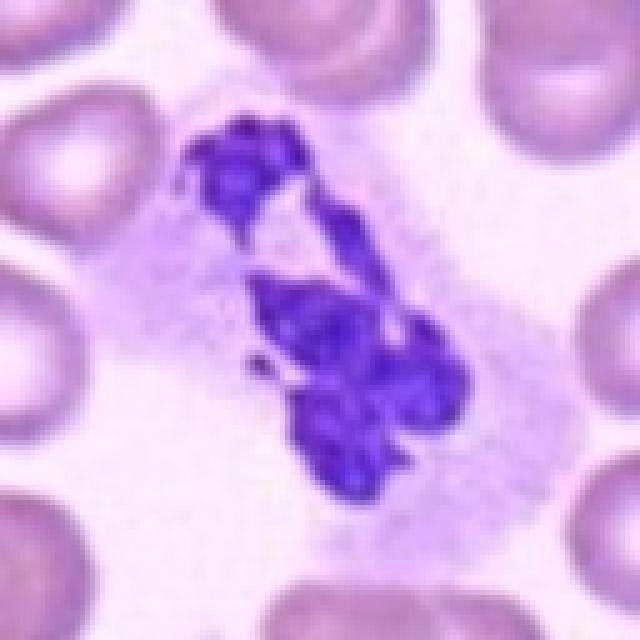neutro: (138, 114, 541, 504)
